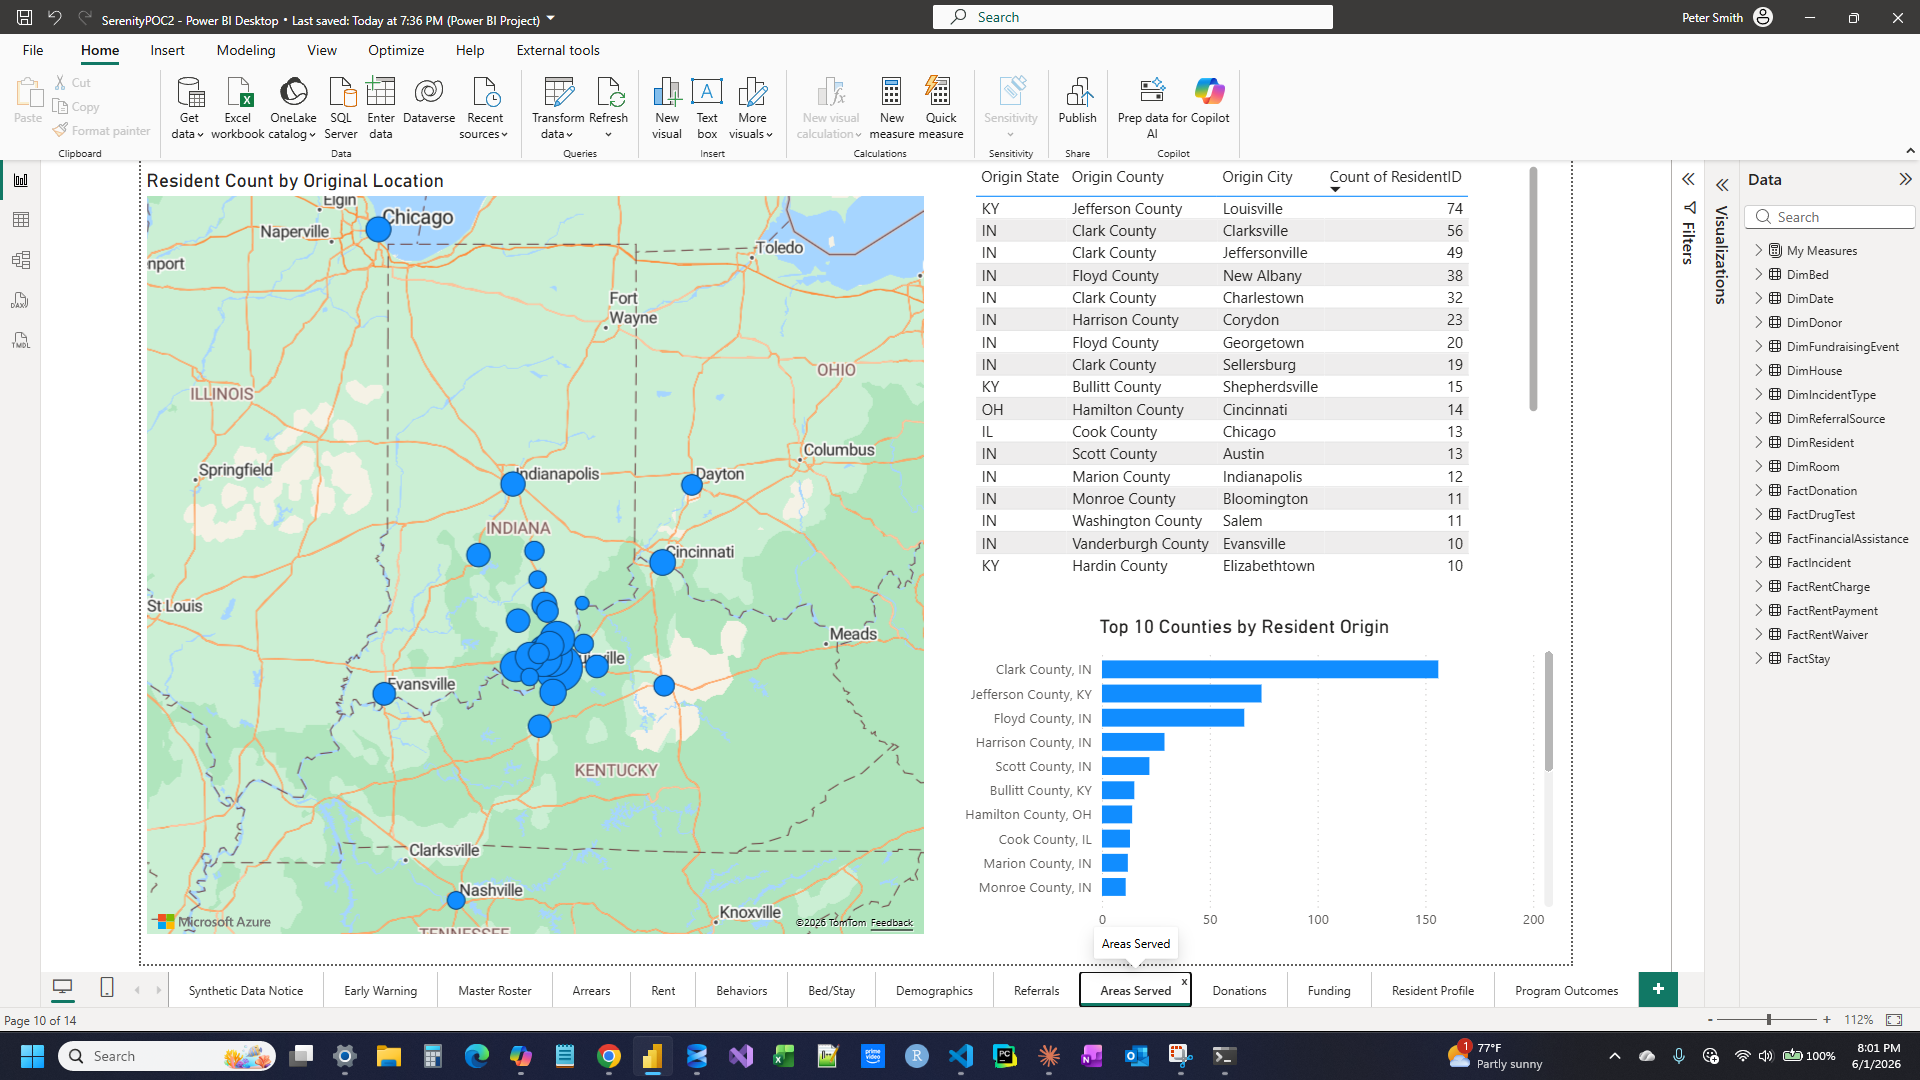

What the dashboard file says about the page in this screenshot:
{"tool":"powerbi","page":{"name":"Areas Served","canvas":[1280,720],"ordinal":2},"visuals":[{"type":"azureMap","fields":{"Category":["DimParticipant.OriginalCityState"],"Size":["CountNonNull(DimParticipant.ParticipantID)"]},"box":[0,8.2,706.2,689.8],"z":0},{"type":"tableEx","fields":{"Values":["DimParticipant.Origin State","DimParticipant.Origin County","DimParticipant.Origin City","DimParticipant.Resident ID"]},"box":[716.5,8.2,563.5,619],"z":1000}]}

Visuals, with their boxes on the page's 1280x720 design canvas (x1, y1, x2, y2). These are canvas units, not pixel positions in the 1920x1080 screenshot, which may show the page scaled, cropped or inside an application window:
azureMap - DimParticipant.OriginalCityState x CountNonNull(DimParticipant.ParticipantID): bbox(0, 8, 706, 698)
tableEx - DimParticipant.Origin State x DimParticipant.Origin County: bbox(716, 8, 1280, 627)
